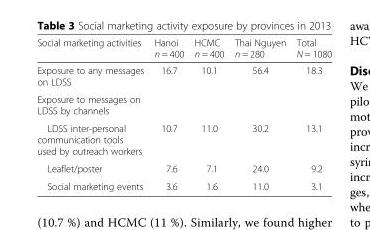table: (36, 36, 331, 191)
table column: (36, 36, 148, 191), (228, 36, 290, 191), (290, 36, 331, 191), (148, 36, 188, 191), (188, 36, 228, 191)
table column header: (36, 36, 331, 61)
table projected row header: (36, 90, 331, 119)
table row: (36, 119, 331, 159), (36, 61, 331, 90), (36, 90, 331, 119), (36, 36, 331, 61), (36, 159, 331, 177), (36, 177, 331, 191)
